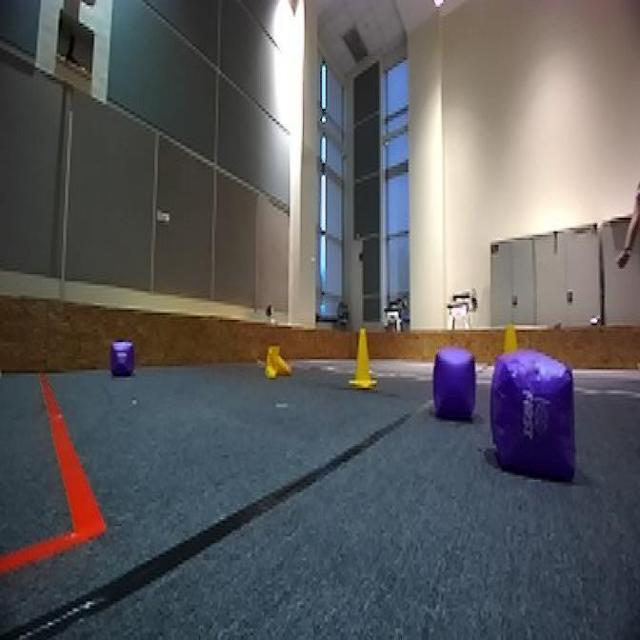frc_cone: (347, 327, 377, 393), (263, 344, 290, 378)
frc_cube: (488, 351, 580, 482), (428, 342, 482, 417), (108, 339, 136, 383)
